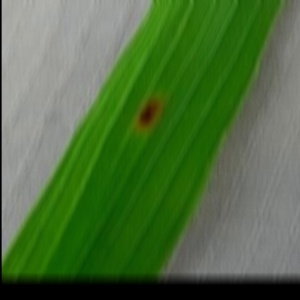Bacterial_Leaf_Blight: (128, 88, 171, 136)
